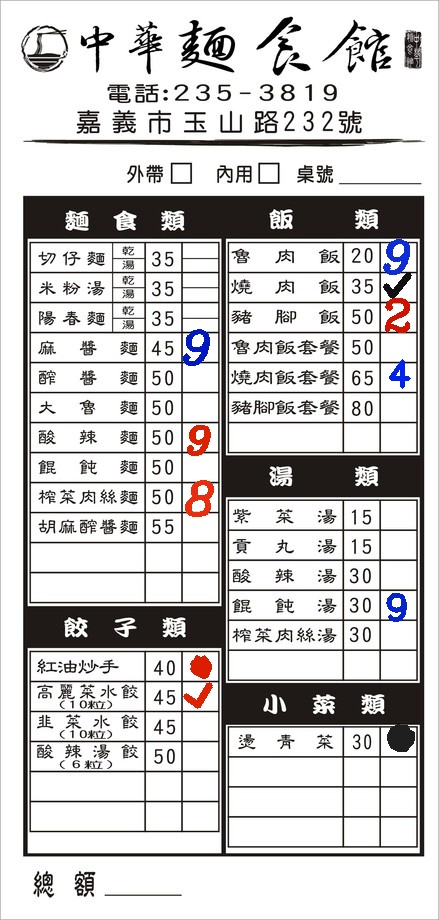marked_circle: (380, 726, 416, 755), (182, 651, 218, 680)
marked_number_2: (380, 302, 416, 331)
marked_number_4: (381, 360, 417, 389)
marked_number_8: (181, 483, 217, 512)
marked_number_9: (181, 424, 217, 453), (182, 332, 218, 361), (380, 589, 416, 618), (381, 242, 417, 271)
marked_tick: (181, 681, 217, 710), (378, 271, 414, 300)
